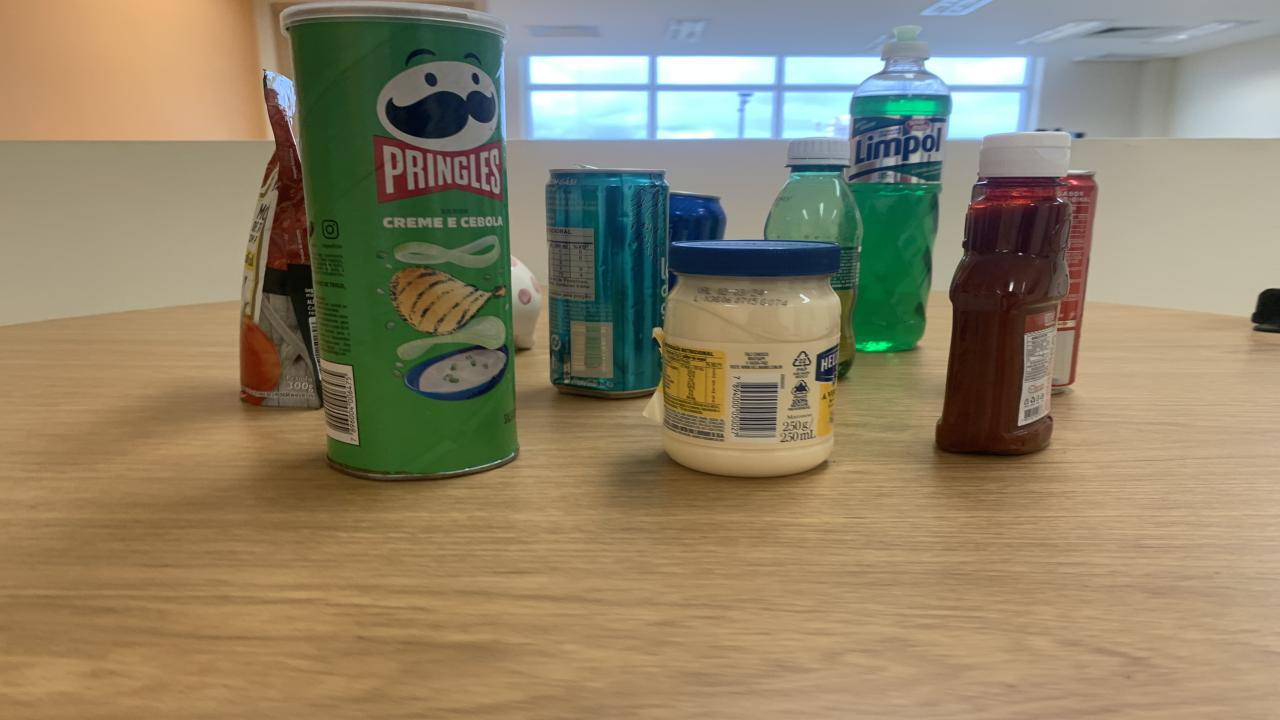Coke-Drinks: (1052, 171, 1098, 392)
Detergent-Cleanup_Items: (848, 26, 952, 352)
Guarana-Drinks: (765, 137, 862, 377)
Ketchup-Pantry_Items: (935, 131, 1070, 454)
Mayonnaise-Pantry_Items: (660, 240, 840, 476)
Pig_Safe-Miscellaneous: (510, 257, 542, 349)
Pringles-Snacks: (282, 4, 518, 480)
Tea-Drinks: (545, 167, 670, 398)
Tomato_Sauce-Pantry_Items: (240, 71, 322, 407)
Tonic-Drinks: (670, 191, 728, 242)
